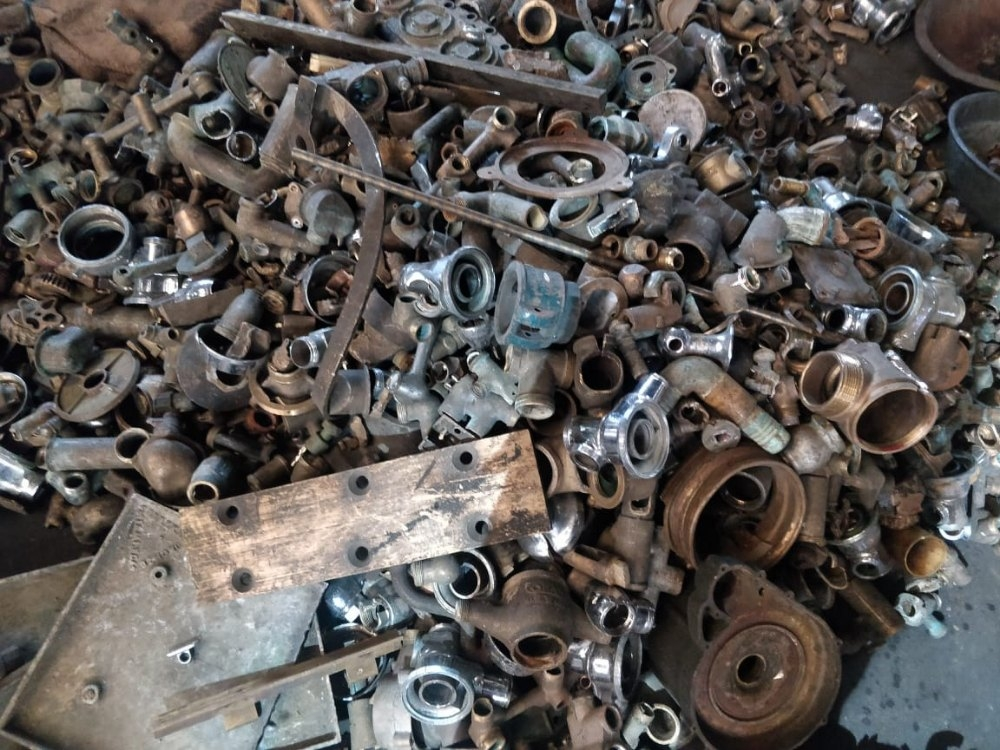metal: (674, 547, 853, 744), (638, 427, 825, 575), (57, 64, 231, 189), (790, 323, 944, 459), (639, 343, 799, 459), (436, 553, 591, 670), (389, 618, 543, 727), (481, 253, 600, 358), (431, 171, 553, 249), (559, 390, 671, 471), (43, 341, 149, 426), (393, 238, 505, 318), (36, 418, 165, 486), (377, 316, 457, 422), (863, 504, 960, 587), (267, 172, 360, 256), (50, 195, 150, 272), (103, 231, 197, 311), (557, 623, 648, 705), (606, 115, 703, 189), (723, 195, 808, 278), (174, 437, 264, 512), (444, 100, 530, 169), (550, 23, 627, 100), (25, 318, 107, 386), (274, 318, 360, 381), (649, 312, 746, 366), (690, 131, 759, 197), (833, 1, 919, 52), (202, 276, 267, 341), (881, 199, 949, 255), (691, 33, 744, 99), (837, 104, 890, 142), (159, 633, 210, 671)
